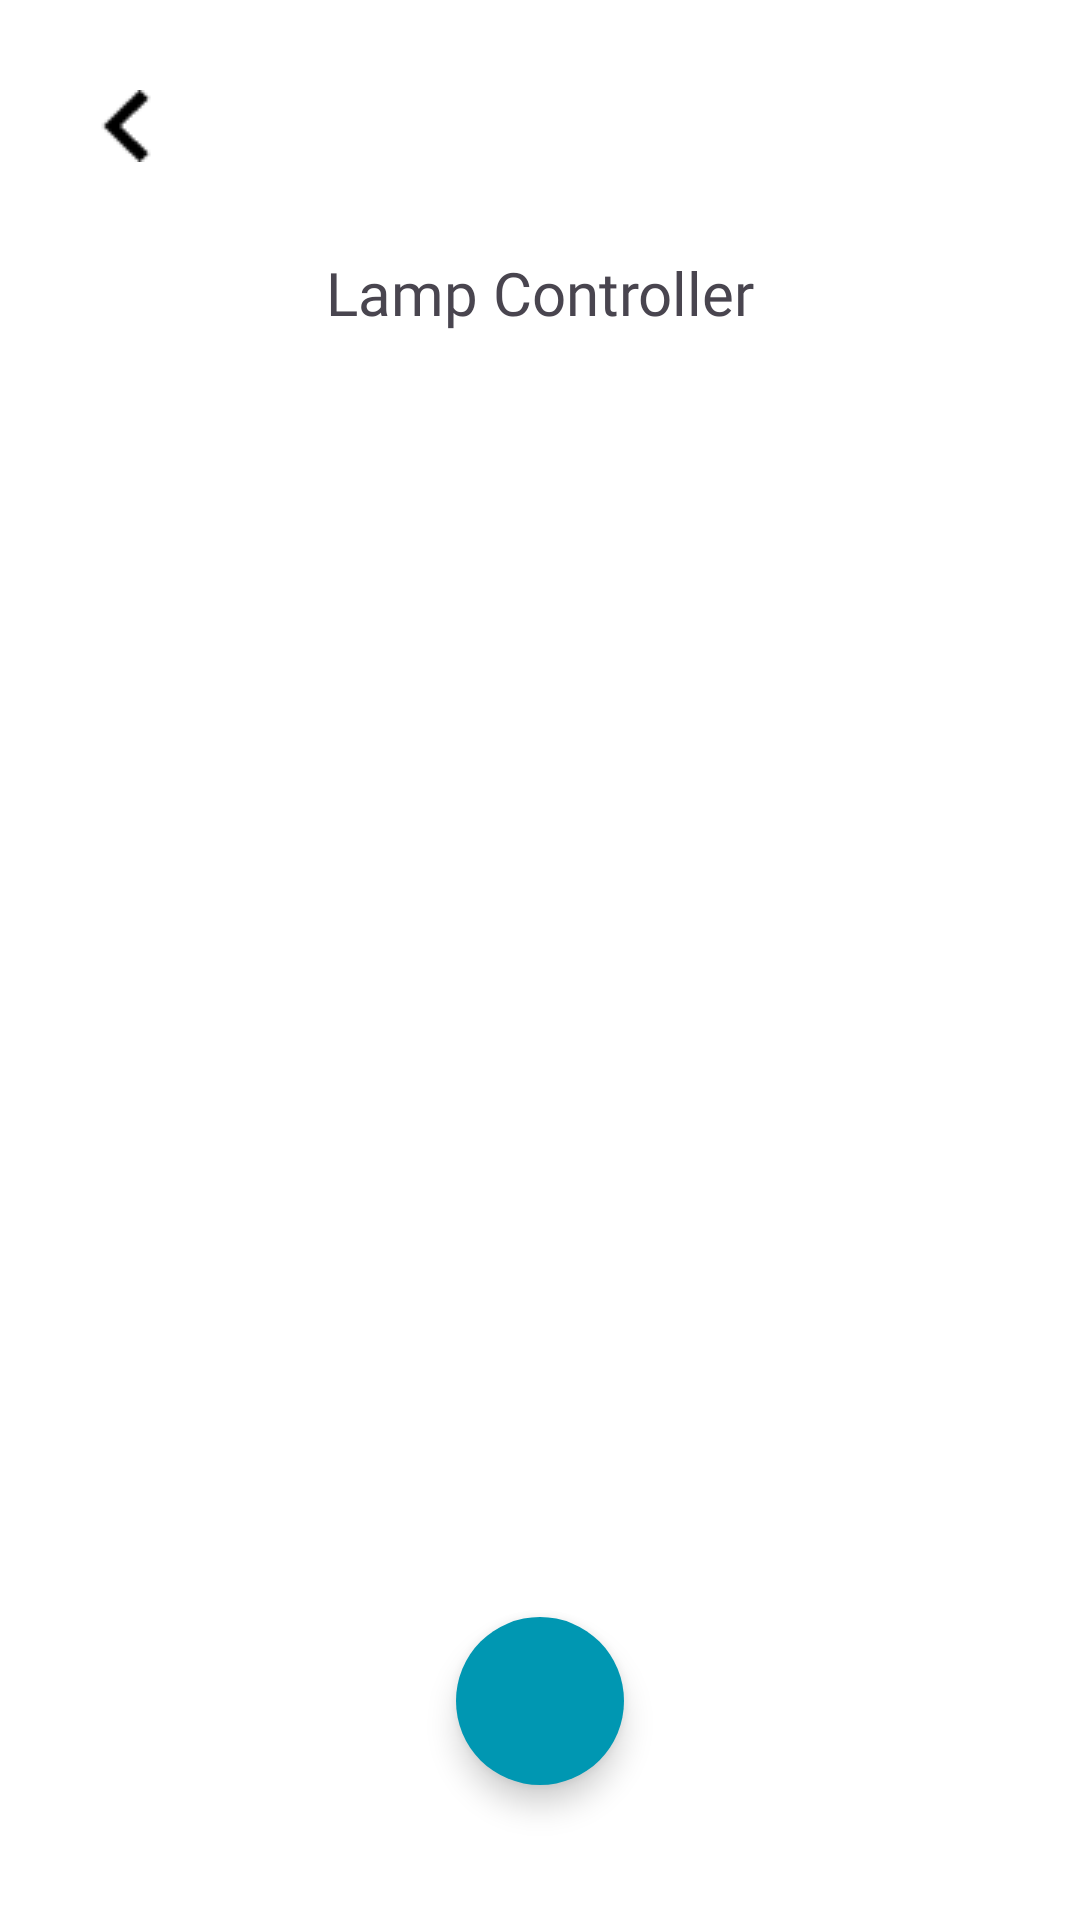

Icon bounding boxes for this 1080*1920 phone screenshot, format bbox=(x1, y1, x2, y2):
back: bbox=(103, 90, 150, 162)
